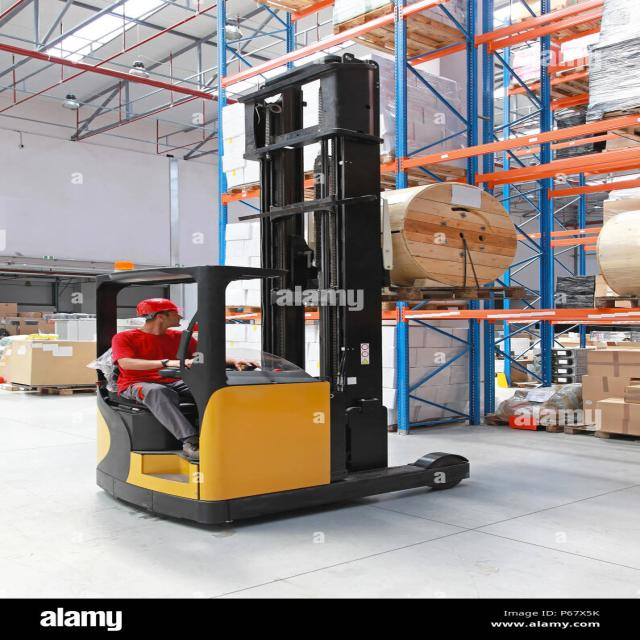Person: (111, 298, 211, 464)
